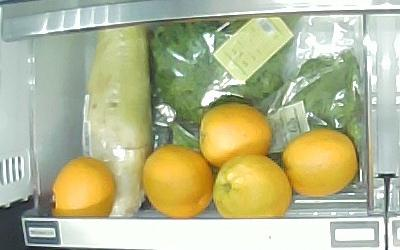orange: (282, 129, 358, 197), (143, 145, 213, 217), (199, 103, 273, 168), (214, 155, 291, 217), (51, 157, 115, 217)
